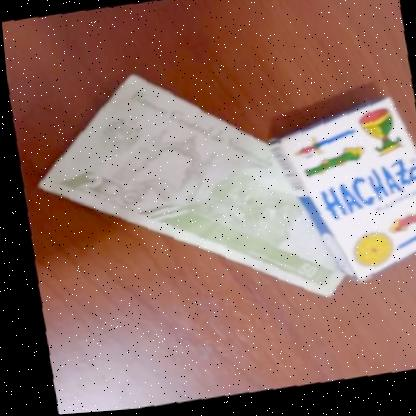vef_back: (14, 44, 346, 347)
